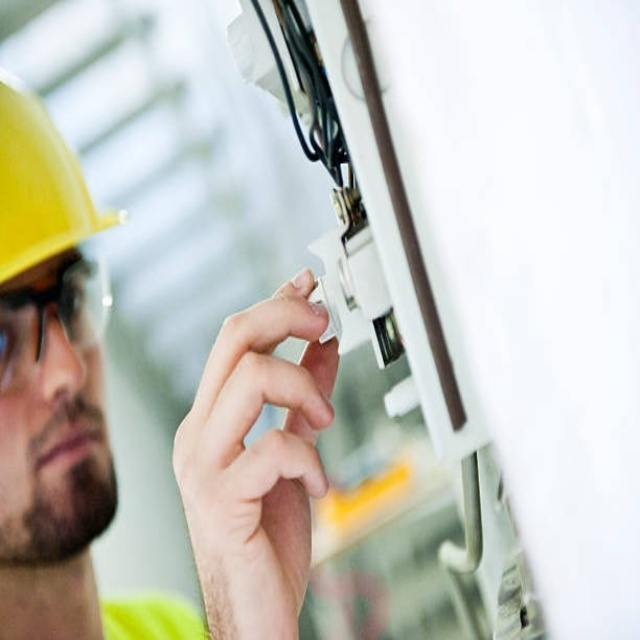Gafas: (2, 255, 112, 388)
Sin_guantes: (171, 269, 341, 639)
Sin_mascara: (24, 407, 111, 513)
